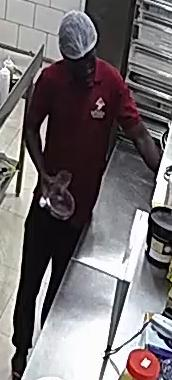no_apron: (32, 56, 118, 230)
